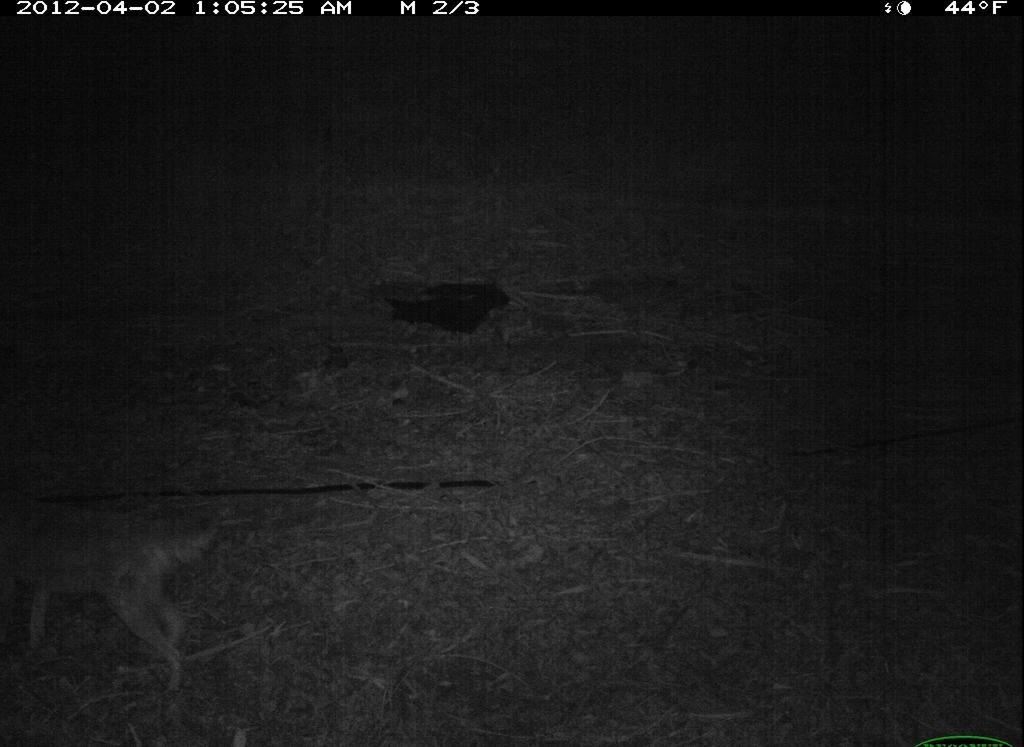coyote: (21, 481, 227, 703)
